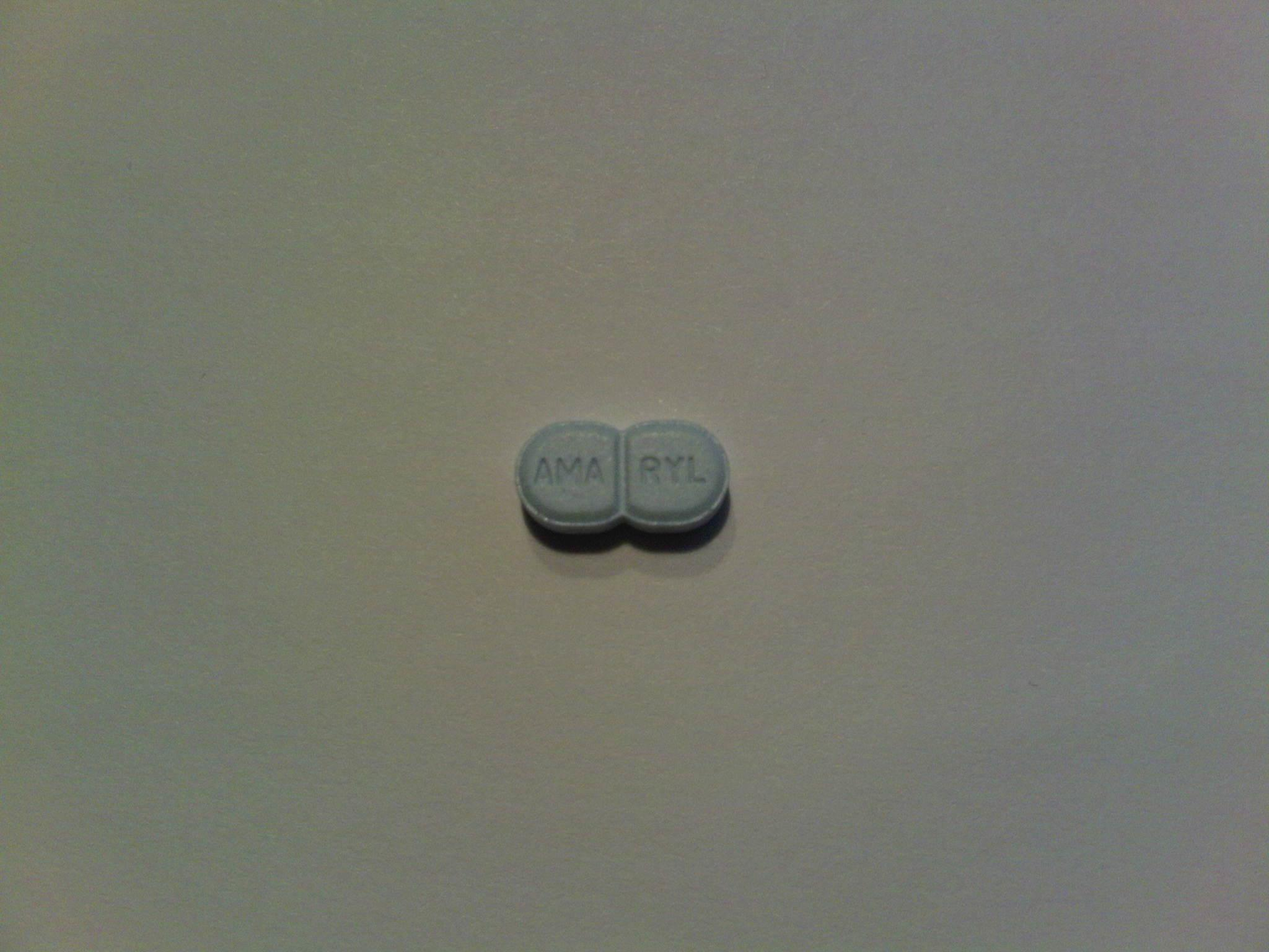Pill: (494, 411, 746, 564)
